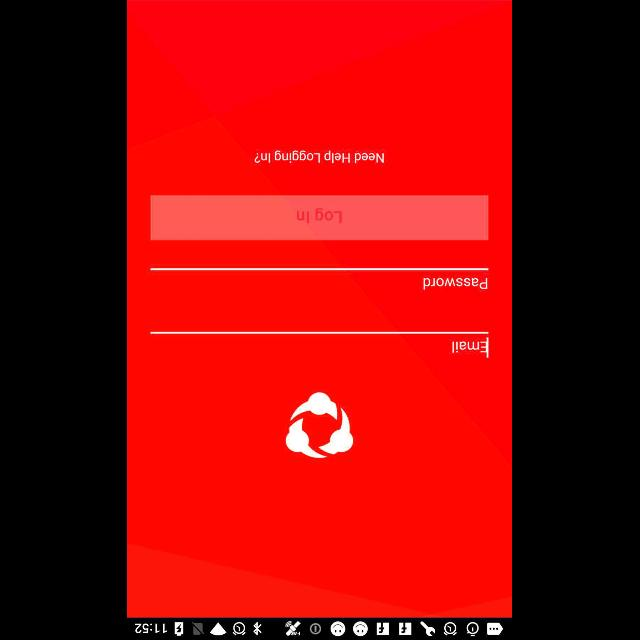image: (286, 392, 354, 458)
input: (151, 332, 489, 358), (151, 268, 489, 290)
text: (256, 150, 384, 163), (424, 277, 488, 289), (453, 342, 487, 352)
textbutton: (151, 196, 489, 240)
uppertaskbar: (128, 617, 512, 639)
